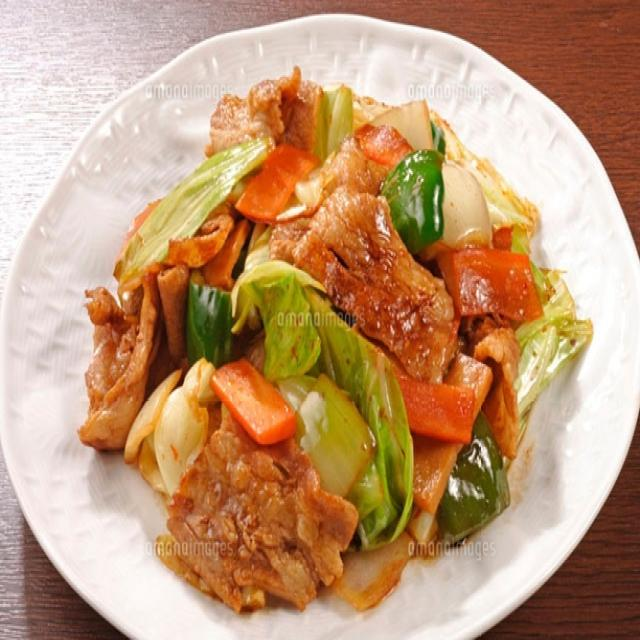米饭主食: (0, 220, 320, 568)
豆腐料理: (317, 74, 640, 629)
